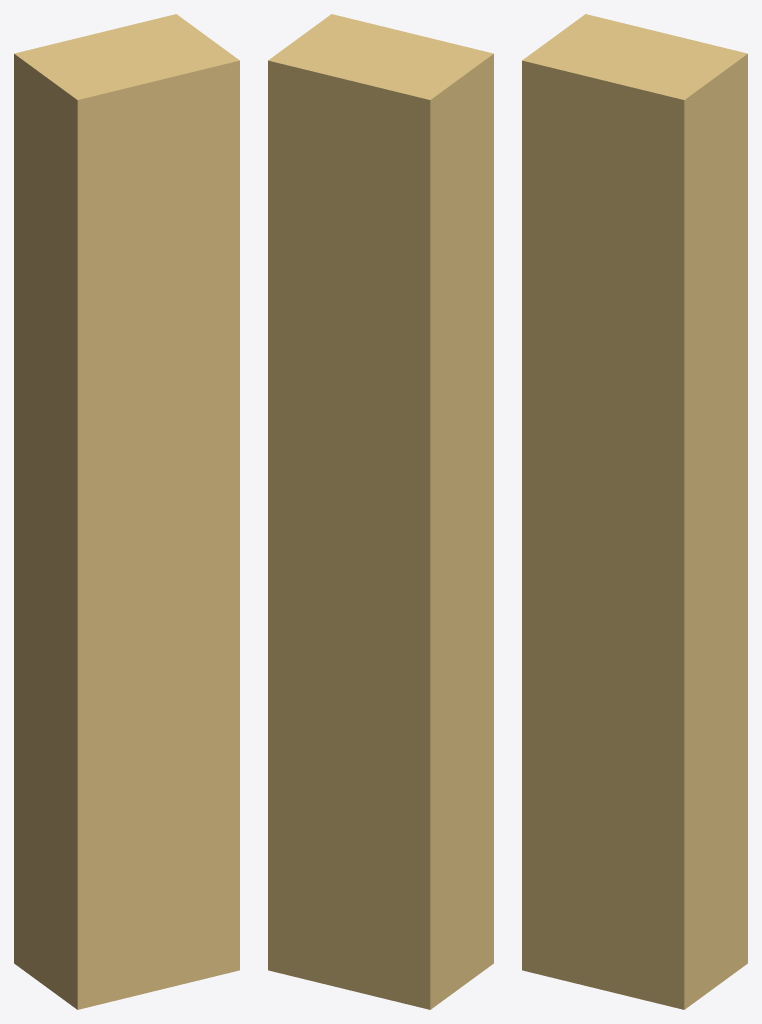
The model's file is SalleRandom_Coin01.fbx.
3 renders of one model, left to right at view 1: azimuth 30°, elevation 25°; view 2: azimuth 150°, elevation 25°; view 3: azimuth 330°, elevation 25°, orthographic.
Parts seen in each view (by area): view 1: Coin01; view 2: Coin01; view 3: Coin01.
Part boxes in pixels (x1=…): Coin01: x1=14, y1=14, x2=239, y2=1009; Coin01: x1=268, y1=14, x2=493, y2=1009; Coin01: x1=522, y1=14, x2=747, y2=1009.
Bounding box in the file's own units: 1.21 × 6.49 × 0.8215.
